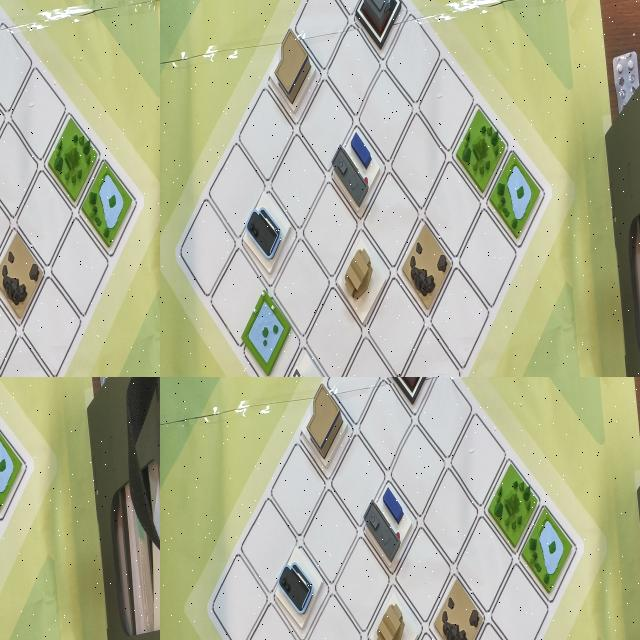bus_stop: (205, 62, 285, 171), (360, 475, 414, 569), (0, 377, 38, 431), (0, 160, 23, 242)
factory: (405, 265, 493, 377), (0, 498, 43, 634), (381, 377, 442, 426)
fish_pool: (262, 100, 336, 206), (0, 377, 34, 422)
forest: (486, 57, 560, 166), (485, 451, 540, 556), (0, 474, 42, 611), (0, 231, 22, 315)
gogo_shop: (270, 546, 326, 628), (0, 380, 37, 489), (246, 0, 312, 50), (0, 184, 20, 255)
research_build: (298, 15, 367, 134), (0, 377, 36, 502)
restaurant: (350, 51, 426, 176), (296, 377, 350, 475), (0, 395, 40, 518), (0, 244, 20, 321)
silicate_rock: (226, 267, 318, 377), (426, 568, 492, 640), (0, 568, 44, 640), (0, 94, 23, 166)
volunteer_center: (387, 0, 442, 92), (365, 574, 424, 640)
wet_land: (330, 231, 417, 359), (522, 499, 574, 599), (0, 459, 40, 580)
